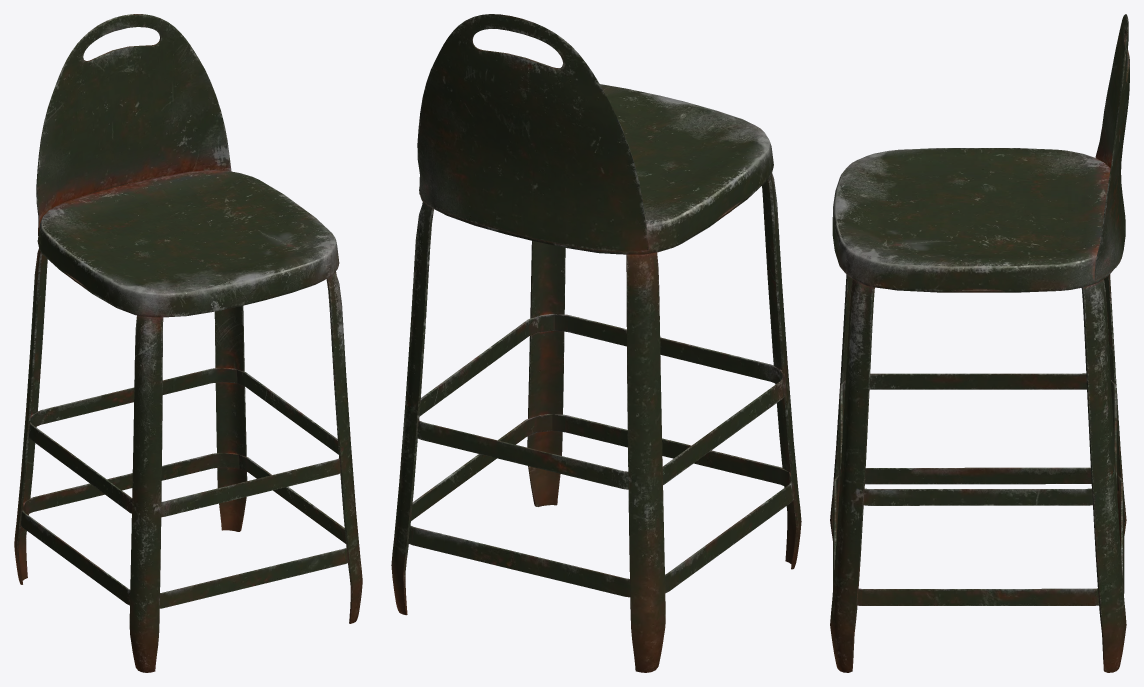
File: metal_stool_03.glb
The picture shows the model from 3 angles, left to right: view 1: azimuth 30°, elevation 25°; view 2: azimuth 150°, elevation 25°; view 3: azimuth 270°, elevation 25°; orthographic projection. The views are drawn at different scales.
Parts seen in each view (by area): view 1: metal_stool_03; view 2: metal_stool_03; view 3: metal_stool_03.
Part boxes in pixels (x1,y1,x2,y2): metal_stool_03: (14, 14, 362, 672); metal_stool_03: (391, 14, 801, 672); metal_stool_03: (830, 14, 1129, 672).
Size of the model in its own units: 0.4606 by 1.02 by 0.4706.
Materials: 1 (1 with a texture image).
